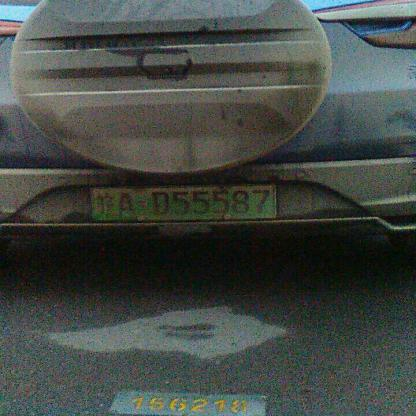lp: (91, 184, 276, 220)
